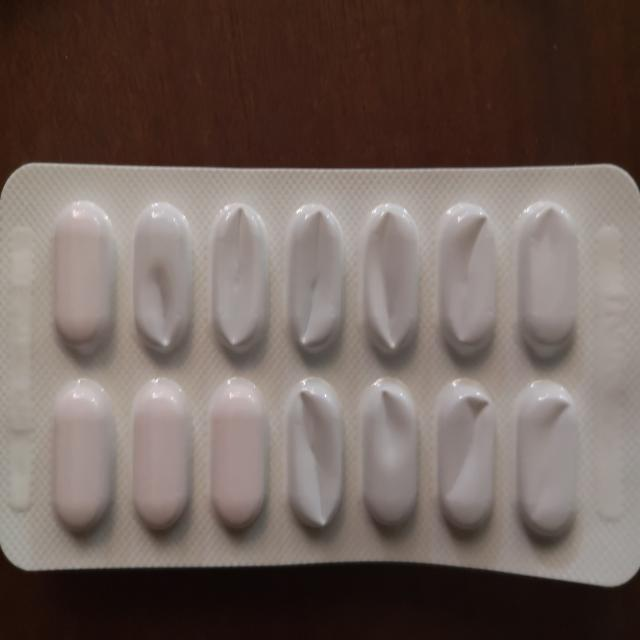Empty: (510, 376, 584, 553), (431, 378, 505, 550), (130, 194, 201, 364), (510, 196, 582, 363), (436, 192, 505, 366), (280, 371, 351, 539), (356, 371, 426, 540), (359, 196, 428, 364), (280, 198, 352, 358), (206, 195, 276, 359)
Pill: (44, 371, 122, 542), (46, 196, 119, 360), (205, 374, 272, 543), (130, 374, 197, 541)
